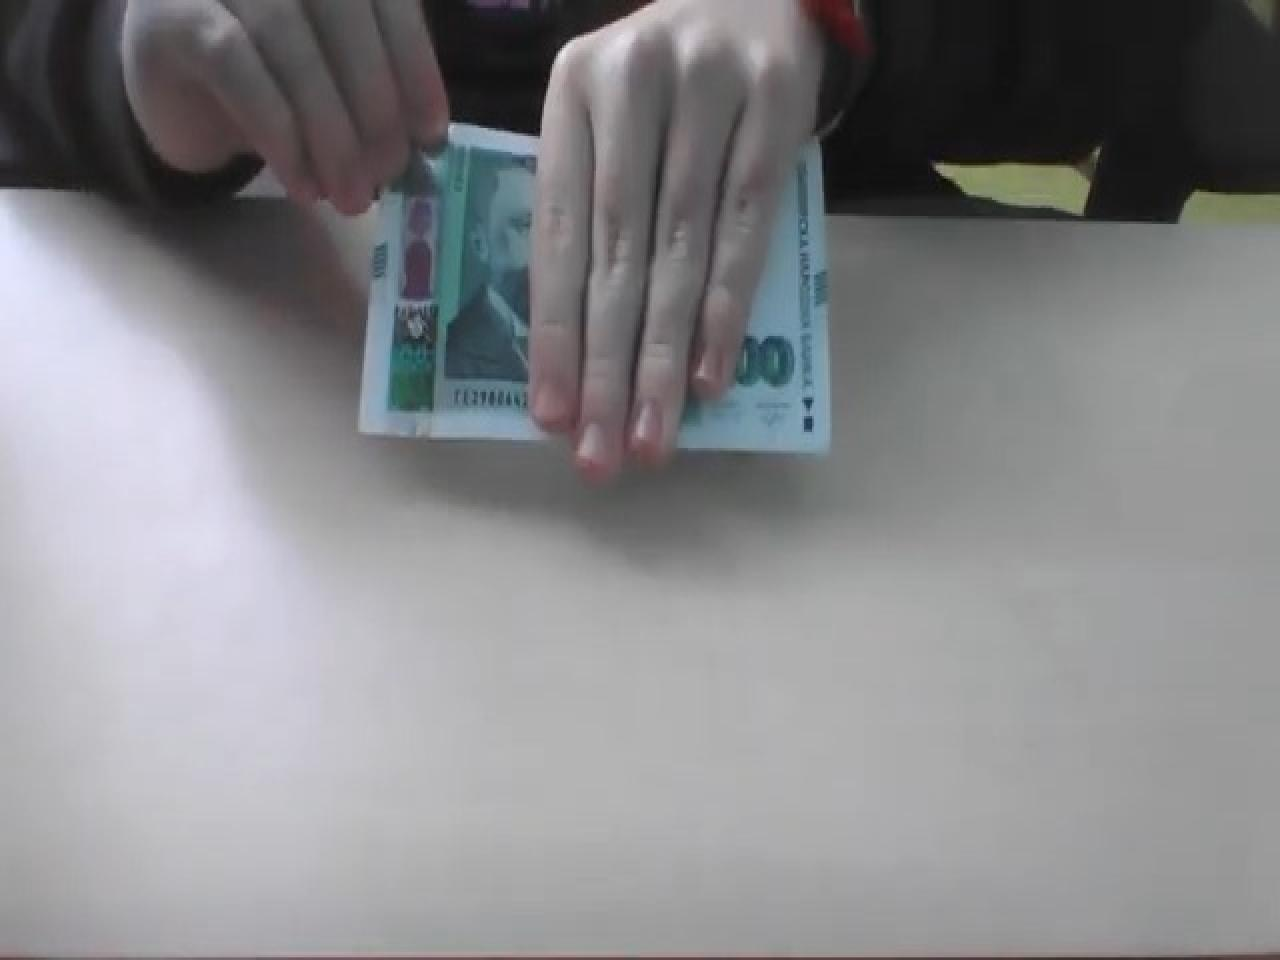100leva: (356, 115, 834, 459)
